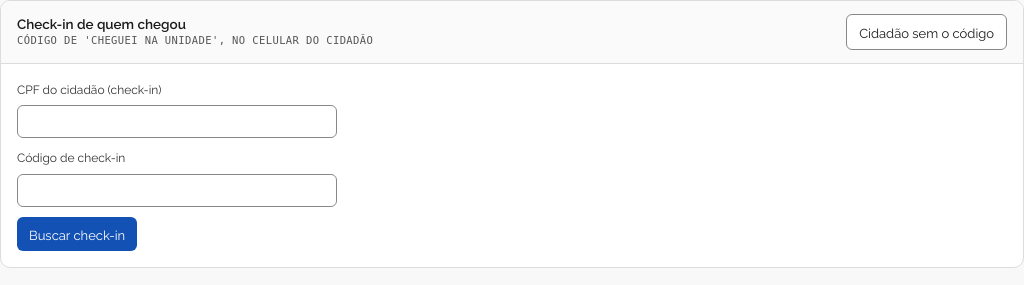
it: CheckIn › cartão mostra CPF e celular mascarados, nível, data, protocolo e prioridade
Type "52998224725" into the field labelled "CPF do cidadão (check-in)" at (177, 122), box [17, 105, 337, 138]
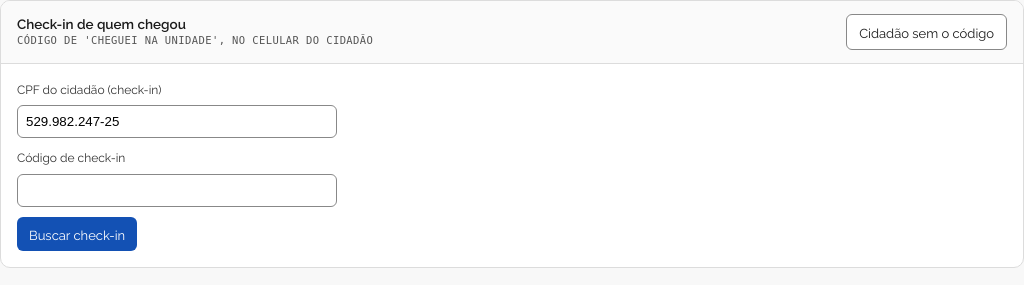
Type "123456" into the field labelled "Código de check-in" at (177, 190), box [17, 174, 337, 207]
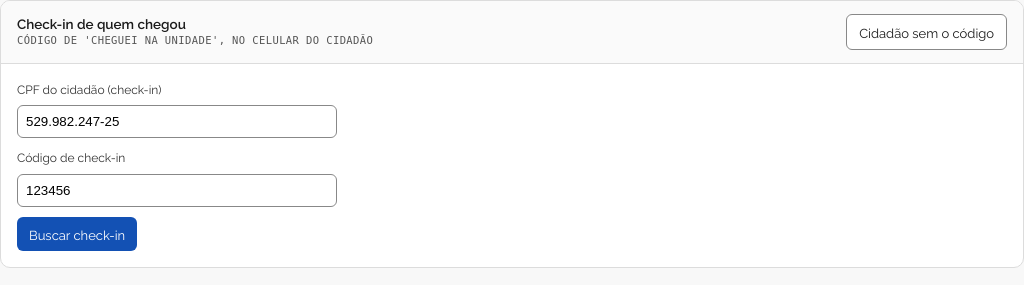
Click the button "Buscar check-in" at (77, 234), box [17, 217, 137, 251]
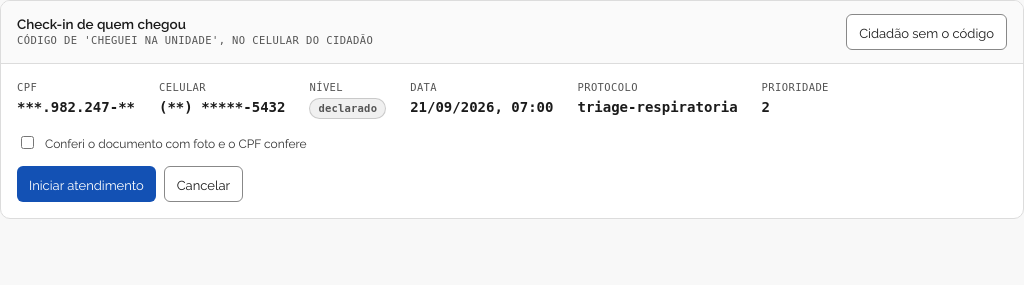
Expected: the text "***.982.247-**" is shown, [17, 97, 135, 118]
Expected: the text "(**) *****-5432" is shown, [159, 97, 285, 118]
Expected: the text "declarado" is shown, [310, 98, 386, 119]
